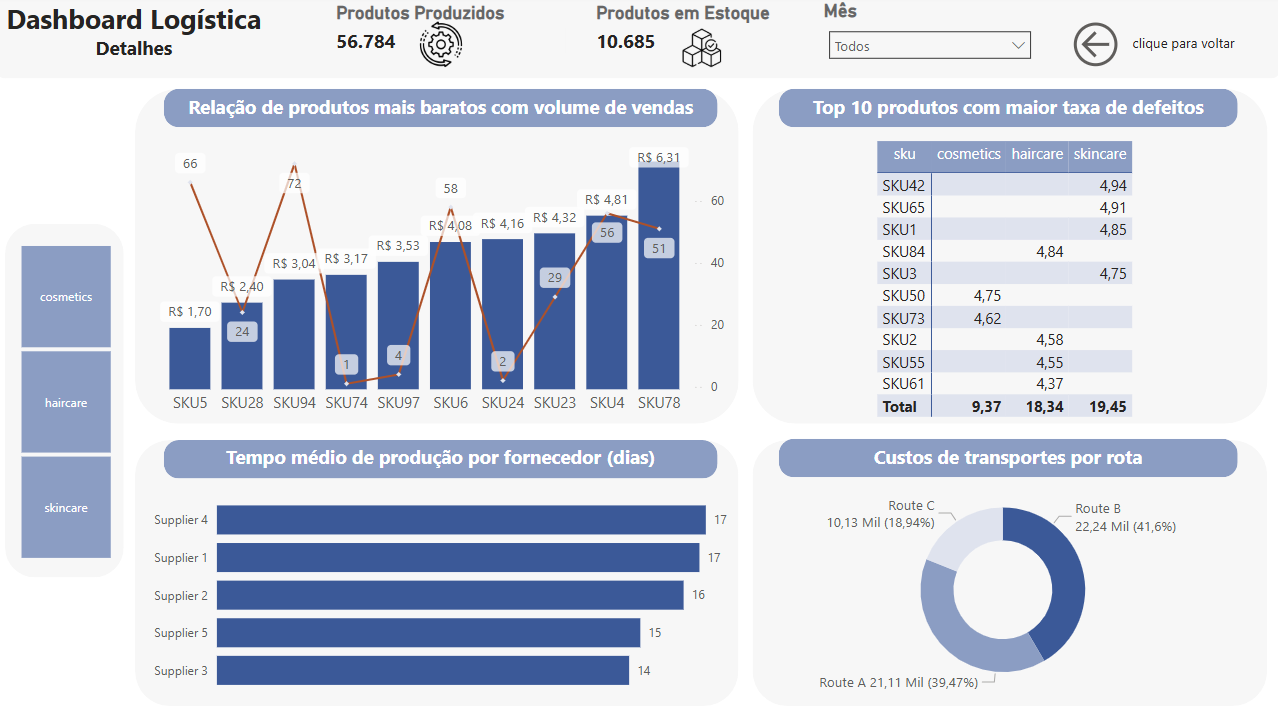

The page's visual inventory and layout, read from the dashboard file:
{"tool":"powerbi","page":{"name":"logística","canvas":[1280,720],"ordinal":1},"visuals":[{"type":"shape","box":[753.8,442.8,512.5,265],"z":0},{"type":"shape","box":[753.8,93.3,512.5,333.4],"z":1000},{"type":"shape","box":[139.3,442.8,600.8,265],"z":2000},{"type":"shape","box":[139.3,93.3,600.8,333.4],"z":3000},{"type":"shape","box":[10,227.6,118.2,352],"z":4000},{"type":"shape","box":[0,0,1280,83.3],"z":5000},{"type":"multiRowCard","title":"Produtos Produzidos","fields":{"Values":["Sum(logistics.production_volumes)"]},"box":[334.6,7.5,237.6,69.7],"z":6000},{"type":"multiRowCard","title":"Produtos em Estoque","fields":{"Values":["Medidas.produtos_restantes"]},"box":[593.4,7.5,279.9,69.7],"z":7000},{"type":"pivotTable","title":"Top 10 produtos com maior taxa de defeitos","fields":{"Rows":["products.sku"],"Columns":["products.product_type"],"Values":["Sum(logistics.defect_rates)"]},"box":[873.3,140.6,335.9,286.1],"z":8000},{"type":"donutChart","title":"Custos de transportes por rota","fields":{"Category":["logistics.routes"],"Y":["Medidas.custos_de_transporte"]},"box":[797.4,480.2,411.8,223.9],"z":9000},{"type":"barChart","title":"Tempo médio de produção por supplier (dias)","fields":{"Category":["logistics.supplier_name"],"Y":["Medidas.tempo_medio_producao"]},"box":[148,480.2,585.9,227.6],"z":10000},{"type":"lineClusteredColumnComboChart","title":"Relação de produtos mais baratos com volume de vendas","fields":{"Y":["Sum(products.price)"],"Y2":["Sum(orders.order_quantities)"],"Category":["products.sku"]},"box":[148,140.6,585.9,286.1],"z":11000},{"type":"slicer","title":"Categoria do produto","fields":{"Values":["products.product_type"]},"box":[0,242.6,139.3,324.7],"z":12000},{"type":"shape","box":[167.9,93.3,551.1,38.6],"z":13000},{"type":"shape","box":[780,93.3,456.5,38.6],"z":14000},{"type":"shape","box":[167.9,442.8,551.1,38.6],"z":15000},{"type":"shape","box":[780,441.6,456.5,38.6],"z":16000},{"type":"textbox","box":[167.9,93.3,551.1,38.6],"z":17000},{"type":"textbox","box":[780,93.3,456.5,38.6],"z":18000},{"type":"textbox","box":[167.9,441.6,551.1,38.6],"z":19000},{"type":"textbox","box":[780,441.6,456.5,38.6],"z":20000},{"type":"textbox","box":[0,0,276.2,83.3],"z":21000},{"type":"image","box":[380.7,21.1,125.6,56],"z":22000},{"type":"image","box":[639.4,28.6,128.1,48.5],"z":23000},{"type":"slicer","title":"Mês","fields":{"Values":["Calendario.Nome mes"]},"box":[819.8,5,221.4,73.4],"z":24000},{"type":"actionButton","box":[1067.3,21.1,99.5,56],"z":25000},{"type":"textbox","box":[1127,33.6,141.8,43.5],"z":26000}]}

Visuals, with their boxes in screenshot pixels (x1, y1, x2, y2), scaled from the page's 1280x720 canvas onto the 1278x717 screenshot:
shape: l=753, t=441, r=1264, b=705
shape: l=753, t=93, r=1264, b=425
shape: l=139, t=441, r=739, b=705
shape: l=139, t=93, r=739, b=425
shape: l=10, t=227, r=128, b=577
shape: l=0, t=0, r=1277, b=83
"Produtos Produzidos" multiRowCard: l=334, t=7, r=571, b=77
"Produtos em Estoque" multiRowCard: l=592, t=7, r=872, b=77
"Top 10 produtos com maior taxa de defeitos" pivotTable: l=872, t=140, r=1207, b=425
"Custos de transportes por rota" donutChart: l=796, t=478, r=1207, b=701
"Tempo médio de produção por supplier (dias)" barChart: l=148, t=478, r=733, b=705
"Relação de produtos mais baratos com volume de vendas" lineClusteredColumnComboChart: l=148, t=140, r=733, b=425
"Categoria do produto" slicer: l=0, t=242, r=139, b=565
shape: l=168, t=93, r=718, b=131
shape: l=779, t=93, r=1235, b=131
shape: l=168, t=441, r=718, b=479
shape: l=779, t=440, r=1235, b=478
textbox: l=168, t=93, r=718, b=131
textbox: l=779, t=93, r=1235, b=131
textbox: l=168, t=440, r=718, b=478
textbox: l=779, t=440, r=1235, b=478
textbox: l=0, t=0, r=276, b=83
image: l=380, t=21, r=506, b=77
image: l=638, t=28, r=766, b=77
"Mês" slicer: l=819, t=5, r=1040, b=78
actionButton: l=1066, t=21, r=1165, b=77
textbox: l=1125, t=33, r=1267, b=77
